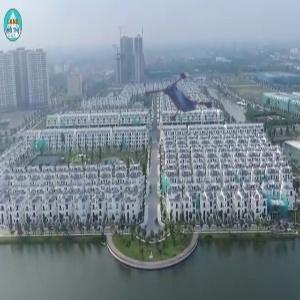drone: (153, 59, 229, 135)
